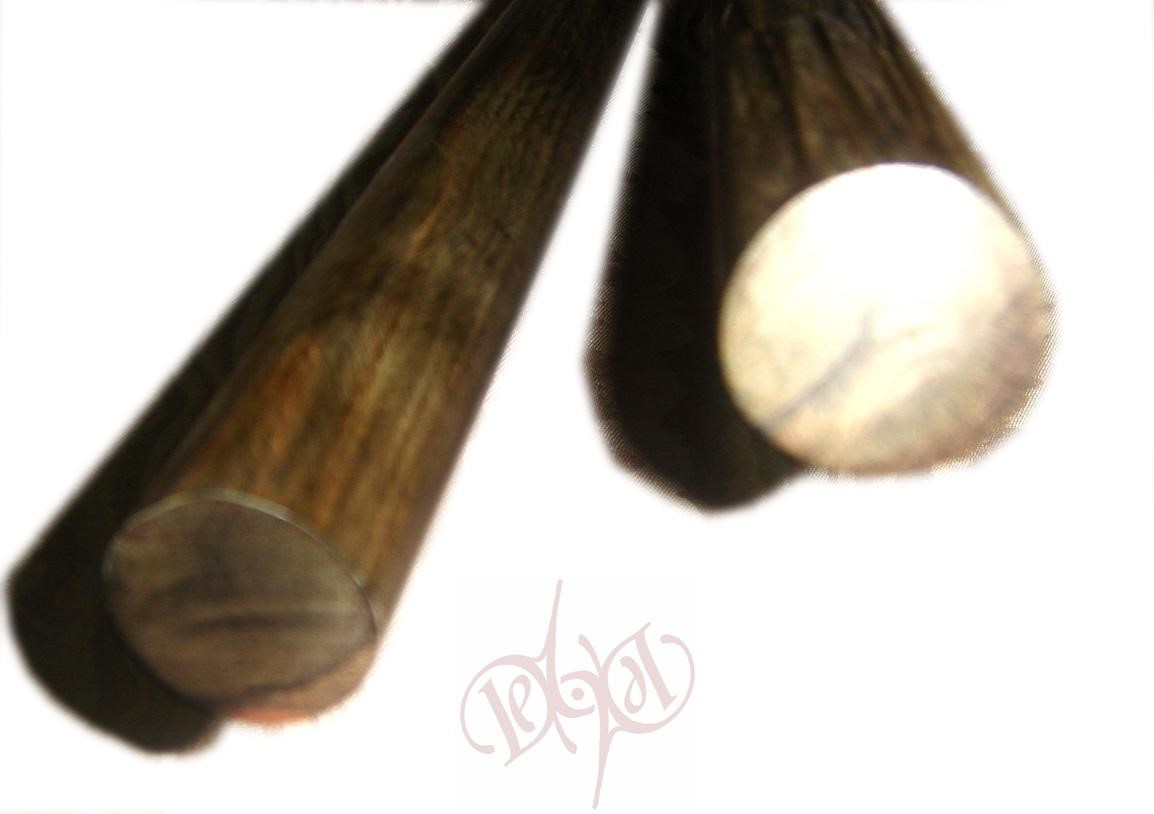baston_e: (148, 10, 638, 472), (695, 6, 987, 171)
baston_v: (80, 357, 461, 749), (695, 127, 1077, 513)
